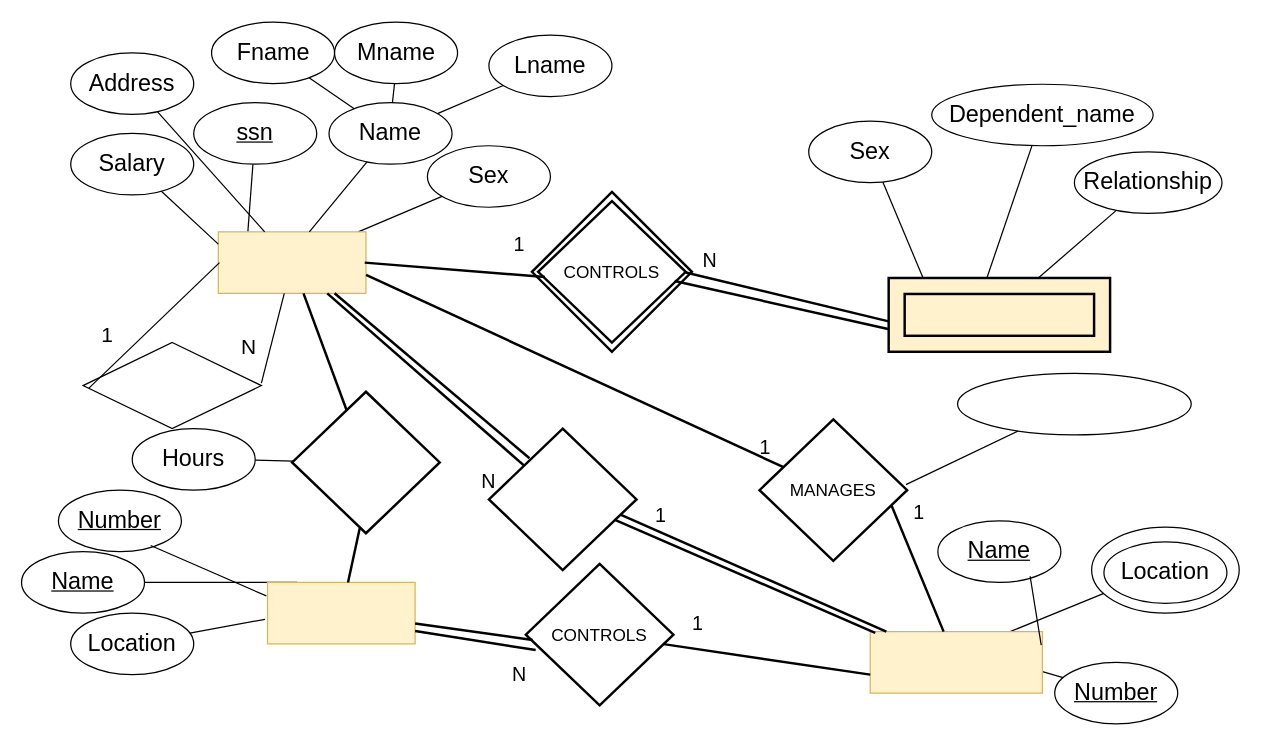
The diagram is 1261 pixels wide and 745 high, and some of its shapes have lost their labels. The shapes that lost their labels are listed below. From the top down, each one's box as (x1, y1, x2, y2) in pixels, then its label:
(217, 231, 366, 293): EMPLOYEE
(887, 276, 1111, 352): DEPENDENT
(82, 341, 261, 429): Supervision
(956, 372, 1191, 435): Manager_start_date
(290, 390, 440, 534): WORKS_ON
(487, 427, 637, 571): WORKS_FOR
(266, 581, 415, 644): PROJECT
(869, 630, 1042, 693): DEPARTMENT
